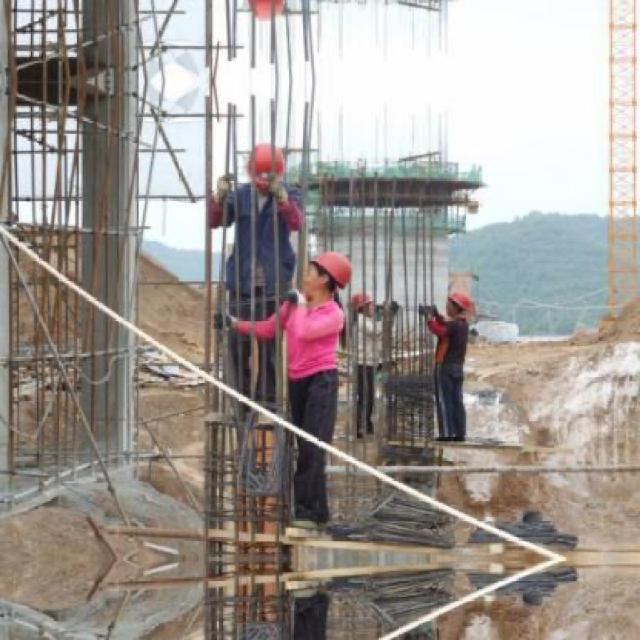con casco: (219, 128, 297, 212), (301, 247, 370, 336)
